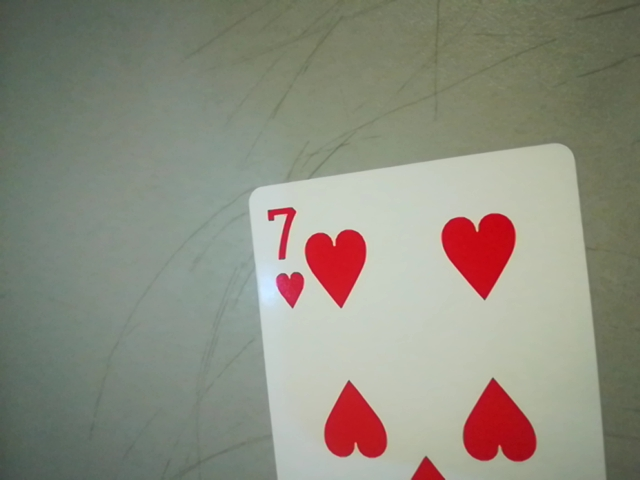hx 7: (255, 197, 307, 315)
